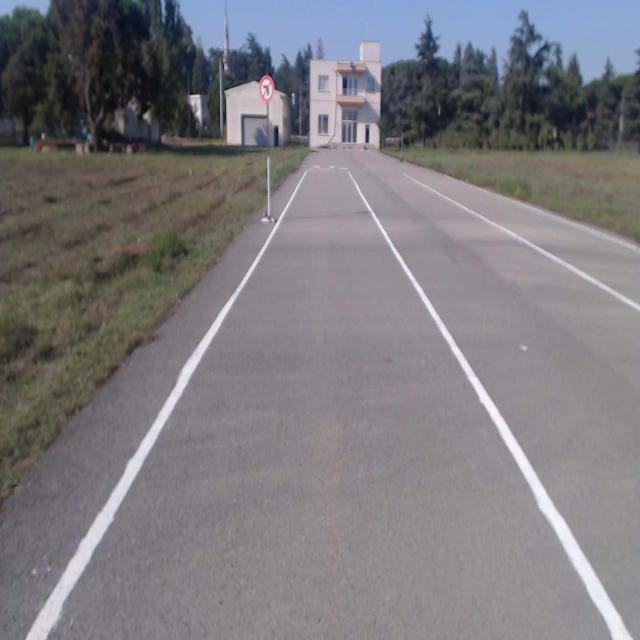soladonulmez: (260, 76, 274, 102)
